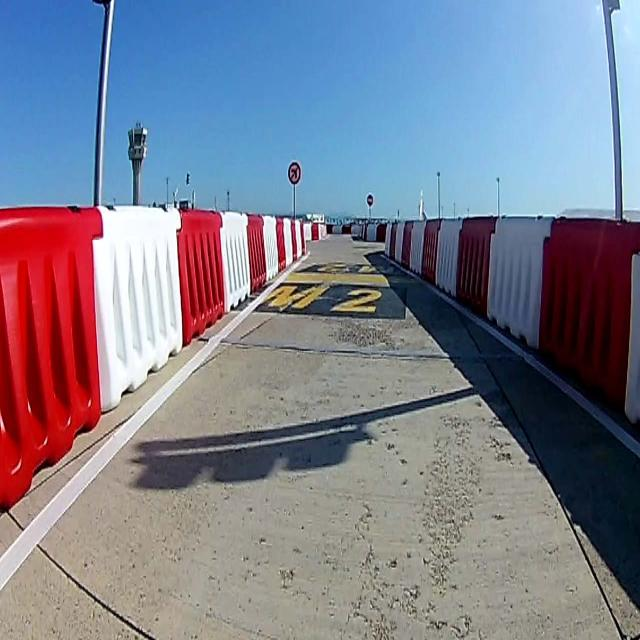soladonulmez: (288, 161, 302, 187)
